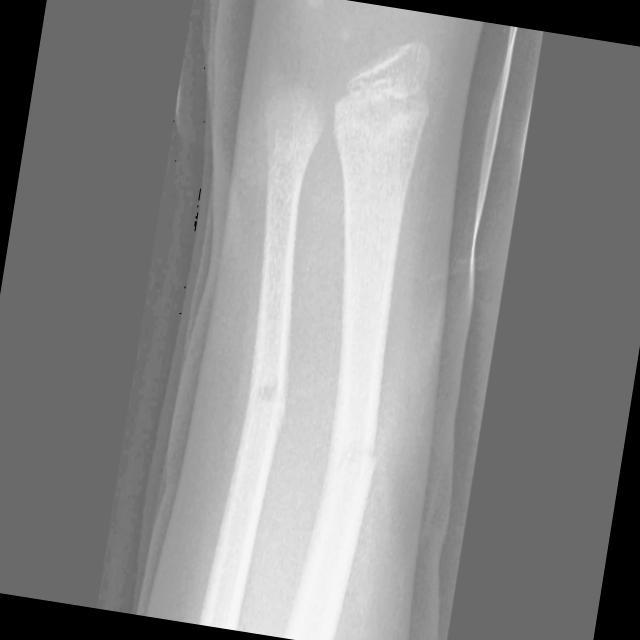GreenStick Fracture: (334, 423, 381, 482), (249, 364, 294, 417)
